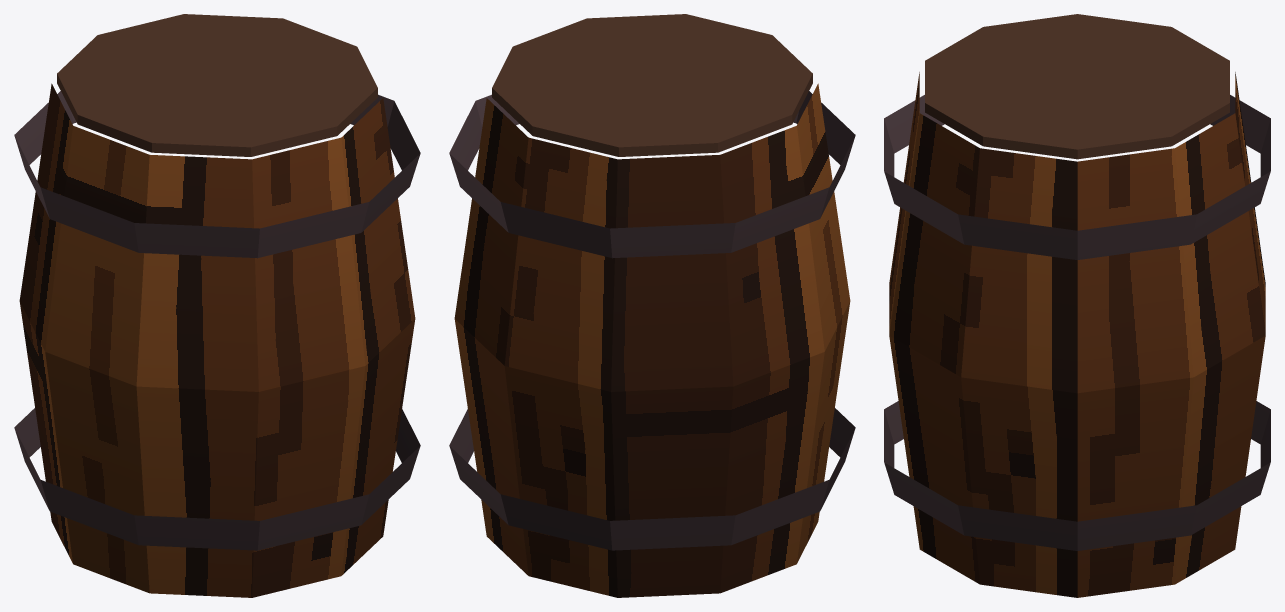
The model's file is barrel.glb.
The picture shows the model from 3 angles, left to right: view 1: azimuth 30°, elevation 25°; view 2: azimuth 150°, elevation 25°; view 3: azimuth 270°, elevation 25°; orthographic projection.
Visible parts, largest first — view 1: barrel; view 2: barrel; view 3: barrel.
Boxes of the visible parts, box(x1,y1,x2,y2) form: barrel: box(14, 14, 420, 597); barrel: box(449, 14, 855, 597); barrel: box(884, 14, 1270, 597).
Size of the model in its own units: 0.76 by 0.92 by 0.7228.
2 materials, 1 textured.
